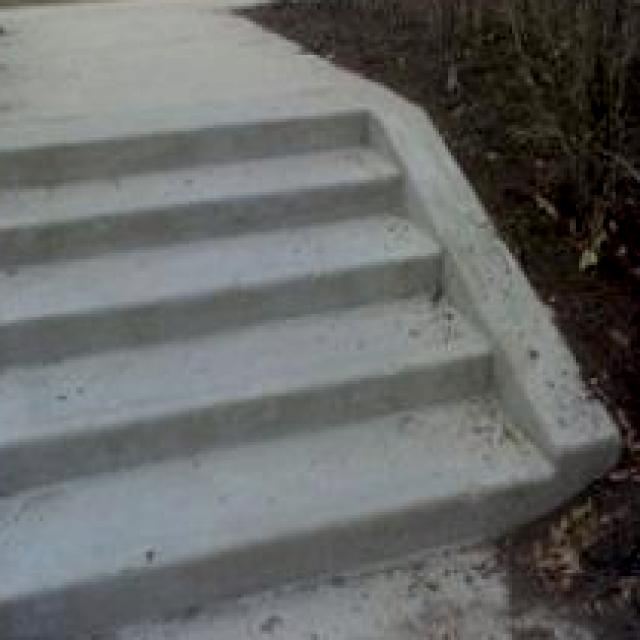upstair: (1, 147, 531, 552)
